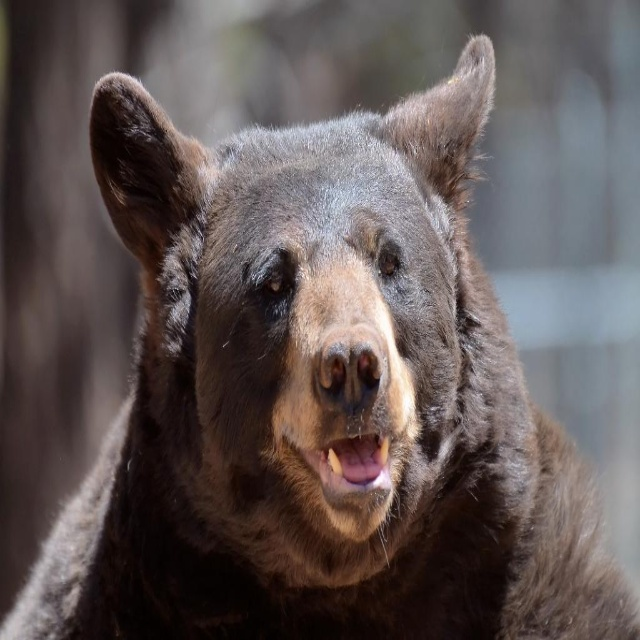Brown bear: (1, 26, 640, 639)
